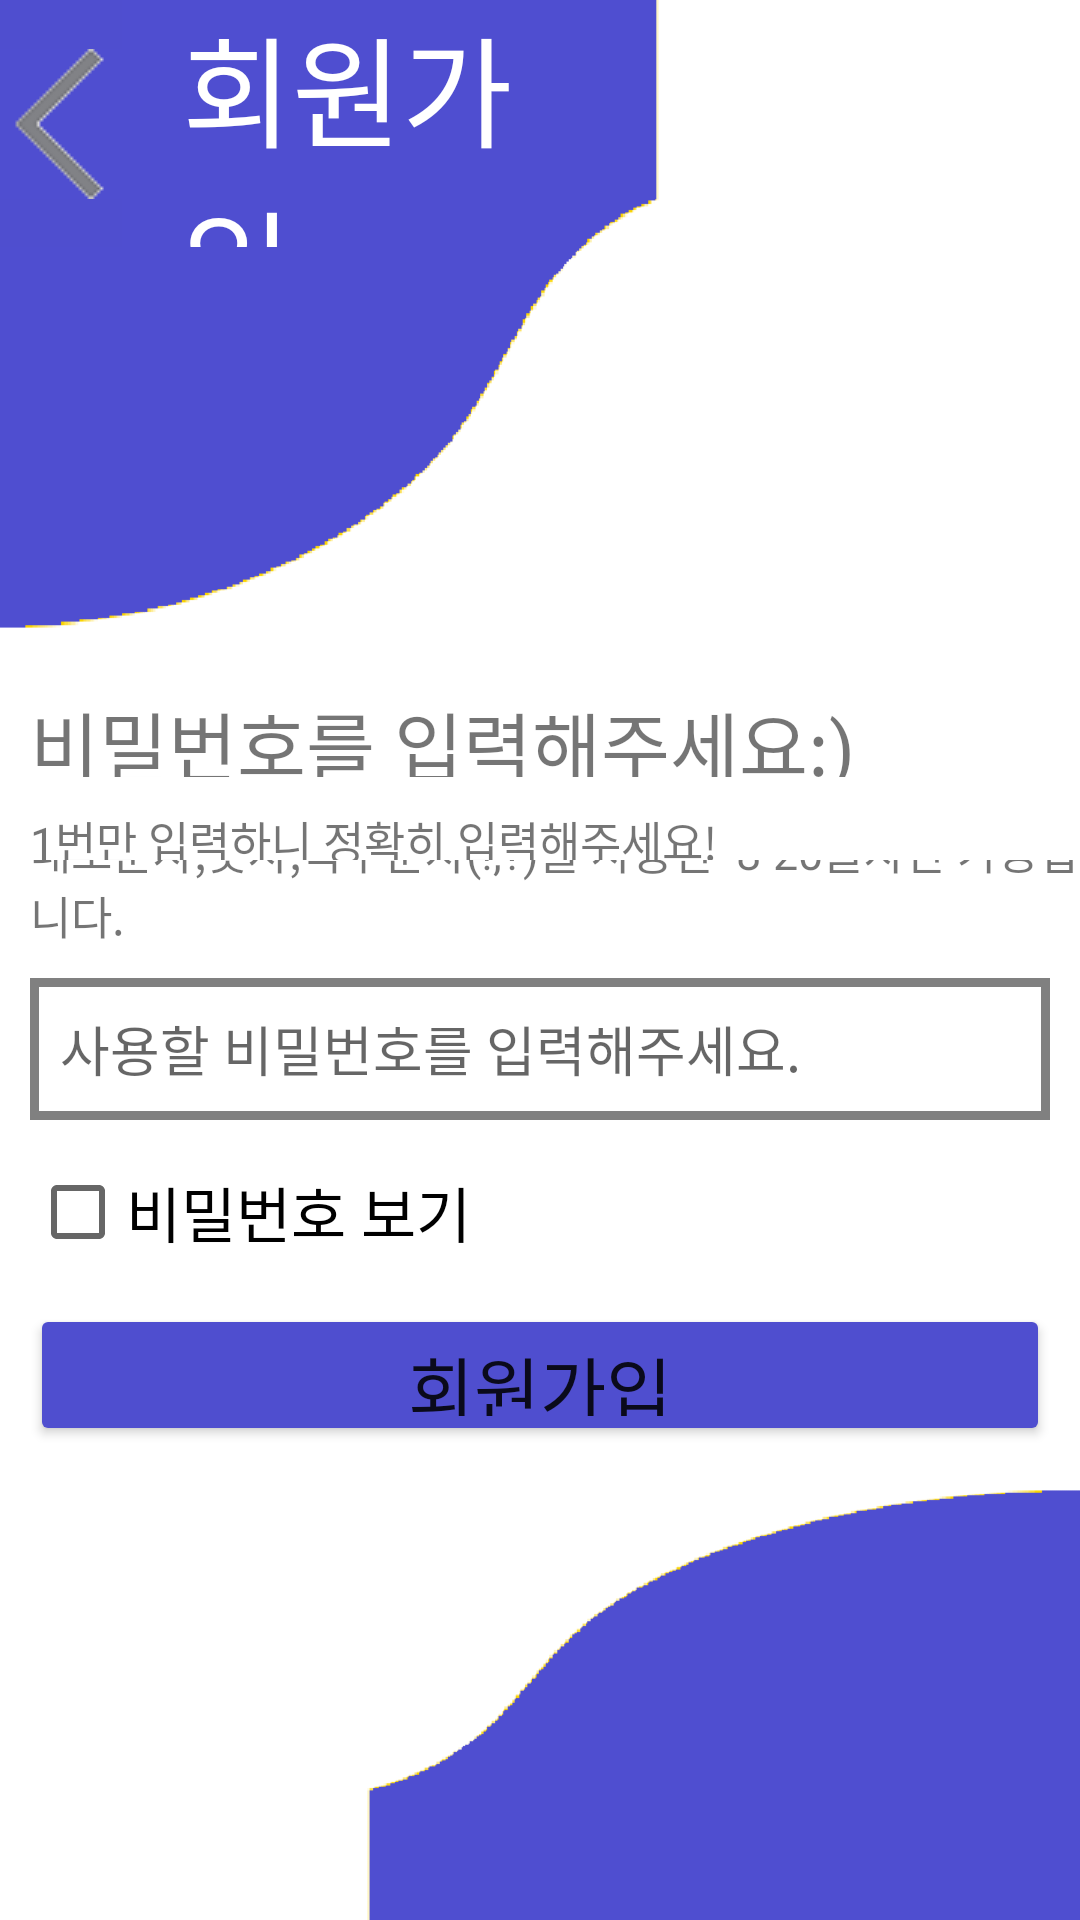

Icons on this 1080 × 1920 Android screen, each with the point to tap as [x,y]:
back space: [59,124]
